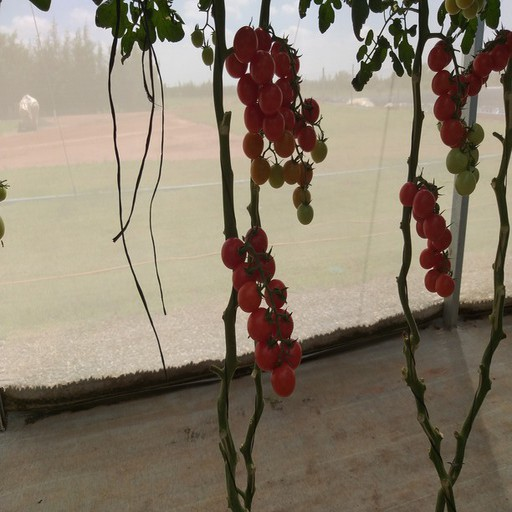mixed tomato bunch: (428, 39, 485, 196)
red tomato bunch: (223, 230, 301, 395), (223, 26, 300, 189), (398, 180, 458, 296), (273, 35, 318, 153), (465, 31, 512, 99)
